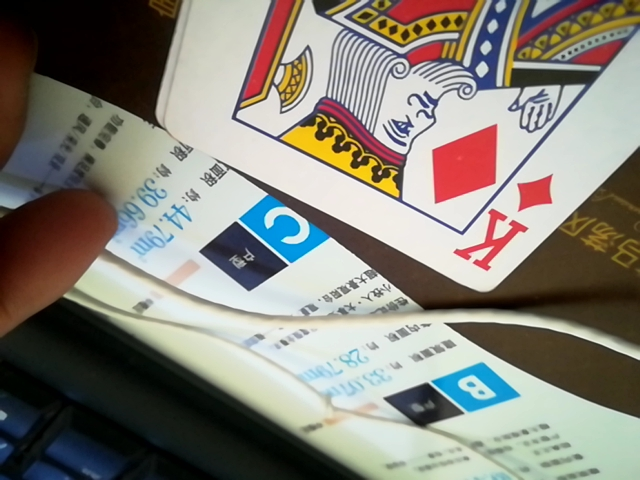fk k: (143, 1, 636, 313)
